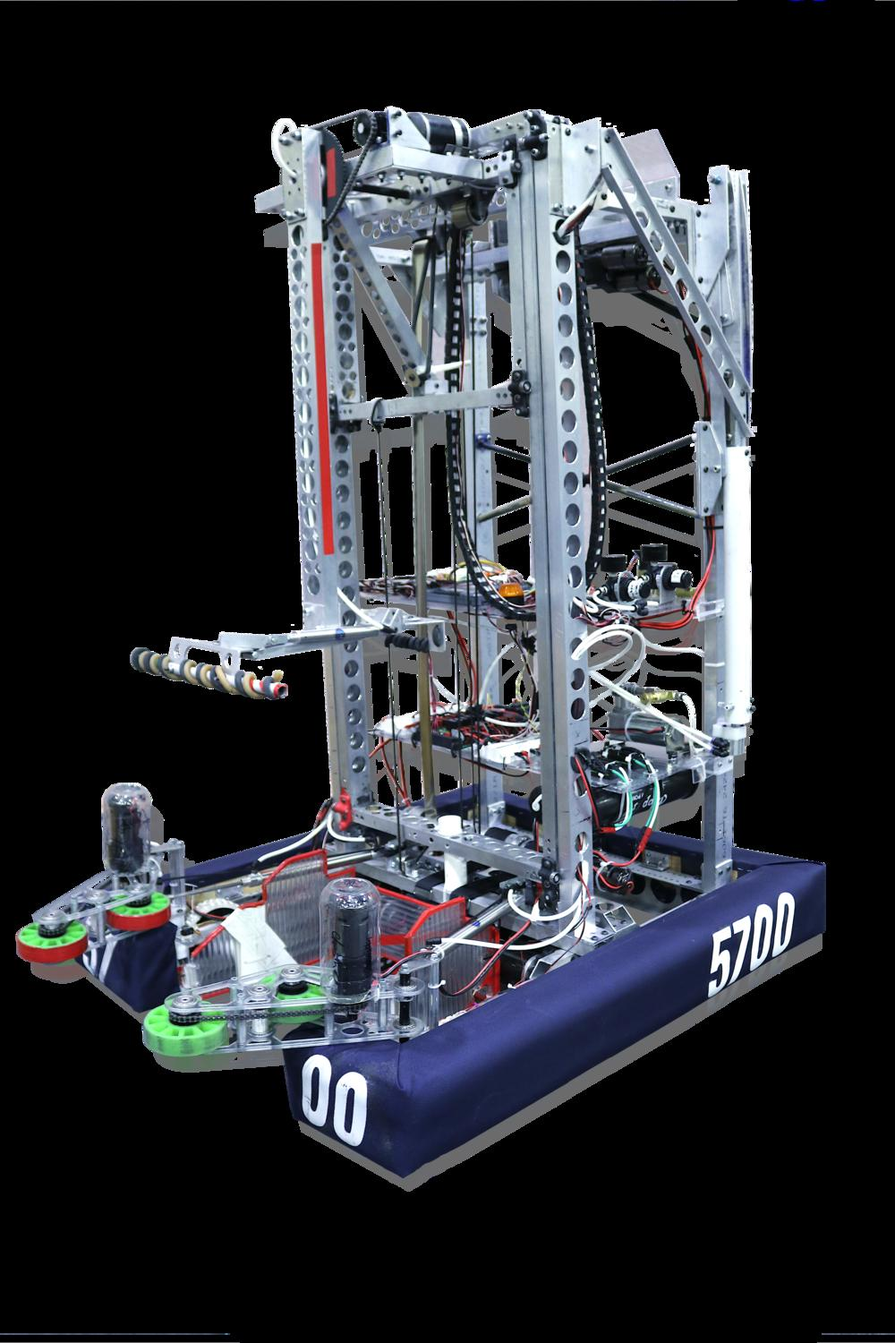robot: (18, 98, 838, 1193)
